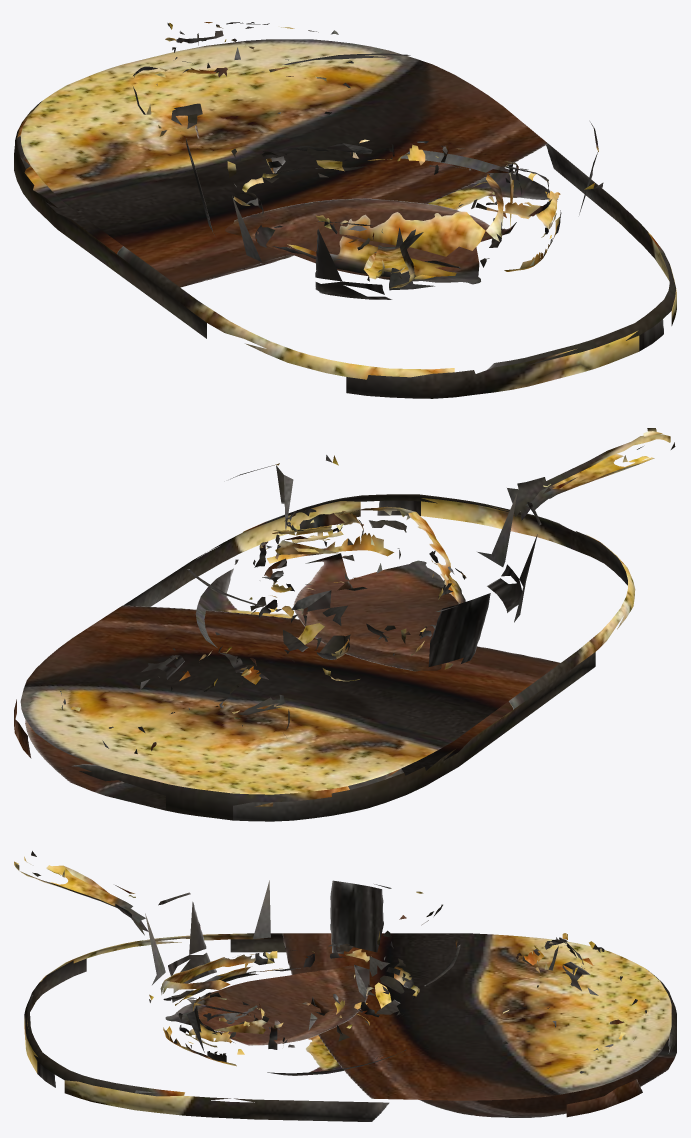
File: omelette_champinones.fbx
3 views of the same model, one above another, from view 1: azimuth 30°, elevation 25°; view 2: azimuth 150°, elevation 25°; view 3: azimuth 270°, elevation 25° (orthographic). The views are drawn at different scales.
Parts seen in each view (by area): view 1: meshes[0]; view 2: meshes[0]; view 3: meshes[0].
Boxes of the visible parts, left/top/right/bottom form: meshes[0]: left=14, top=22, right=676, bottom=398; meshes[0]: left=14, top=428, right=675, bottom=821; meshes[0]: left=14, top=851, right=676, bottom=1121.
Bounding box in the file's own units: 61.13 × 19.73 × 99.8.
